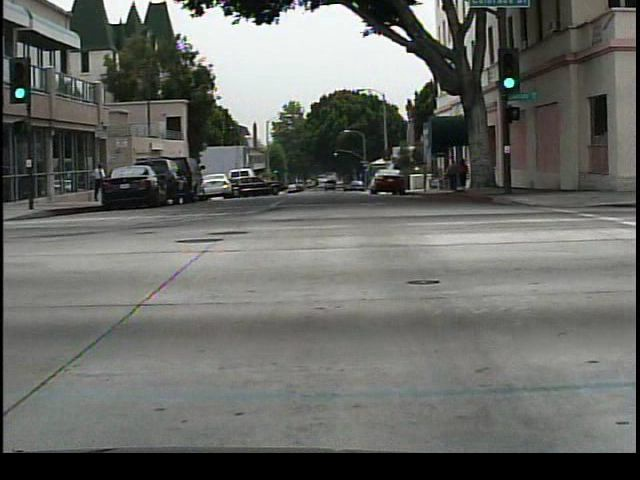person: (93, 156, 108, 204), (442, 161, 460, 194), (465, 155, 466, 195)
